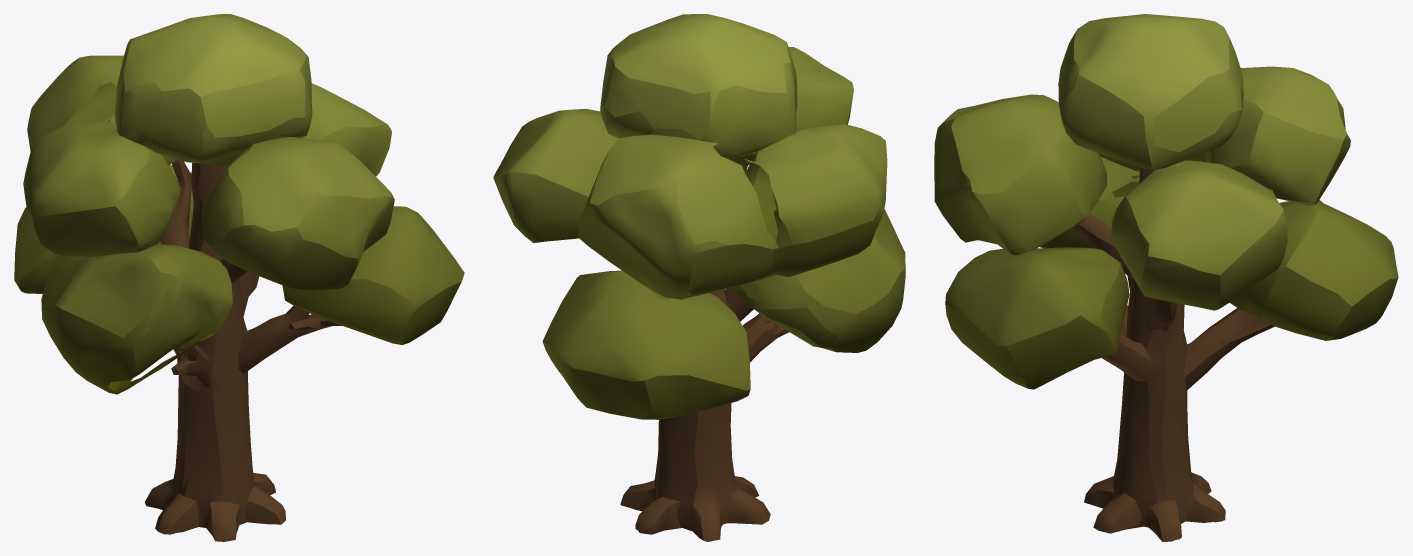
The model's file is ENV_09_OAK.glb.
3 views of the same model, side by side, from view 1: azimuth 30°, elevation 25°; view 2: azimuth 150°, elevation 25°; view 3: azimuth 270°, elevation 25° (orthographic).
Visible parts, largest first — view 1: world; view 2: world; view 3: world.
Part boxes in pixels (left/top/right/bottom): world: left=14, top=14, right=464, bottom=541; world: left=493, top=14, right=905, bottom=541; world: left=934, top=14, right=1398, bottom=541.
Size of the model in its own units: 0.78 by 1 by 0.8669.
Materials: 1 (1 with a texture image).
